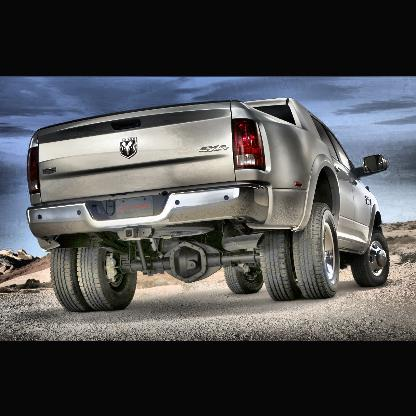Dodge Ram Pickup 3500 Crew Cab 2010: (27, 96, 391, 312)
